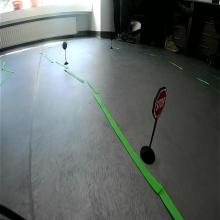stop: (152, 88, 169, 120)
